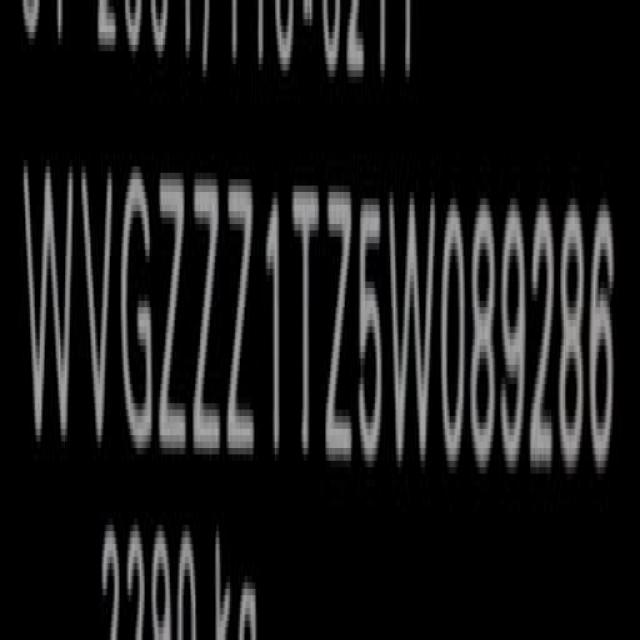0: (439, 200, 467, 471)
1: (260, 187, 286, 460)
2: (529, 207, 556, 476)
5: (357, 184, 386, 470)
6: (591, 196, 621, 472)
8: (558, 197, 588, 472), (470, 197, 499, 472)
9: (501, 206, 529, 474)
G: (121, 143, 155, 453)
T: (292, 177, 320, 468)
V: (80, 148, 117, 446)
W: (26, 152, 73, 458), (386, 188, 436, 475)
Z: (193, 169, 225, 469), (158, 170, 188, 467), (324, 177, 354, 473), (225, 172, 255, 468)
